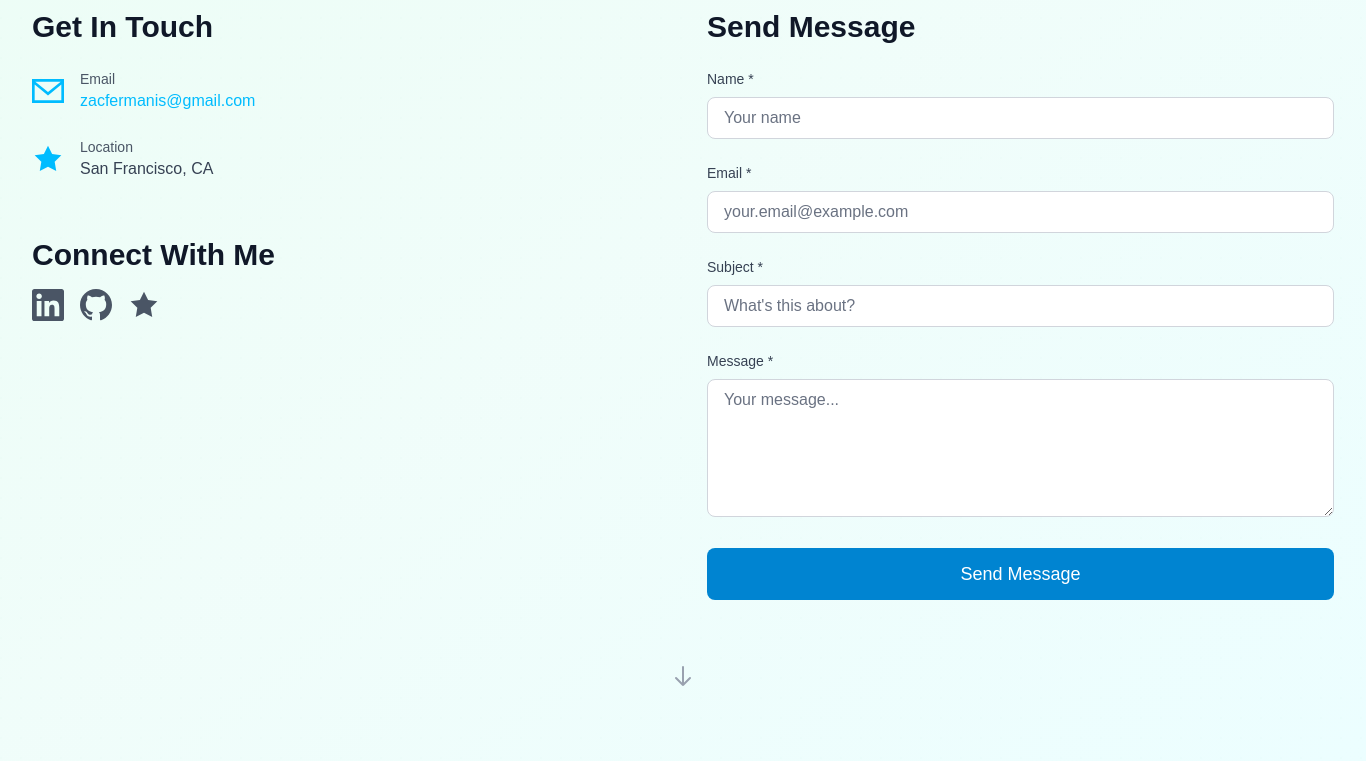
it: Contact › clears validation errors when user starts typing
This screenshot has width=1366, height=761.
(page scrolled)
Click the button "Send Message".
click(1020, 574)  # box [707,548,1334,600]
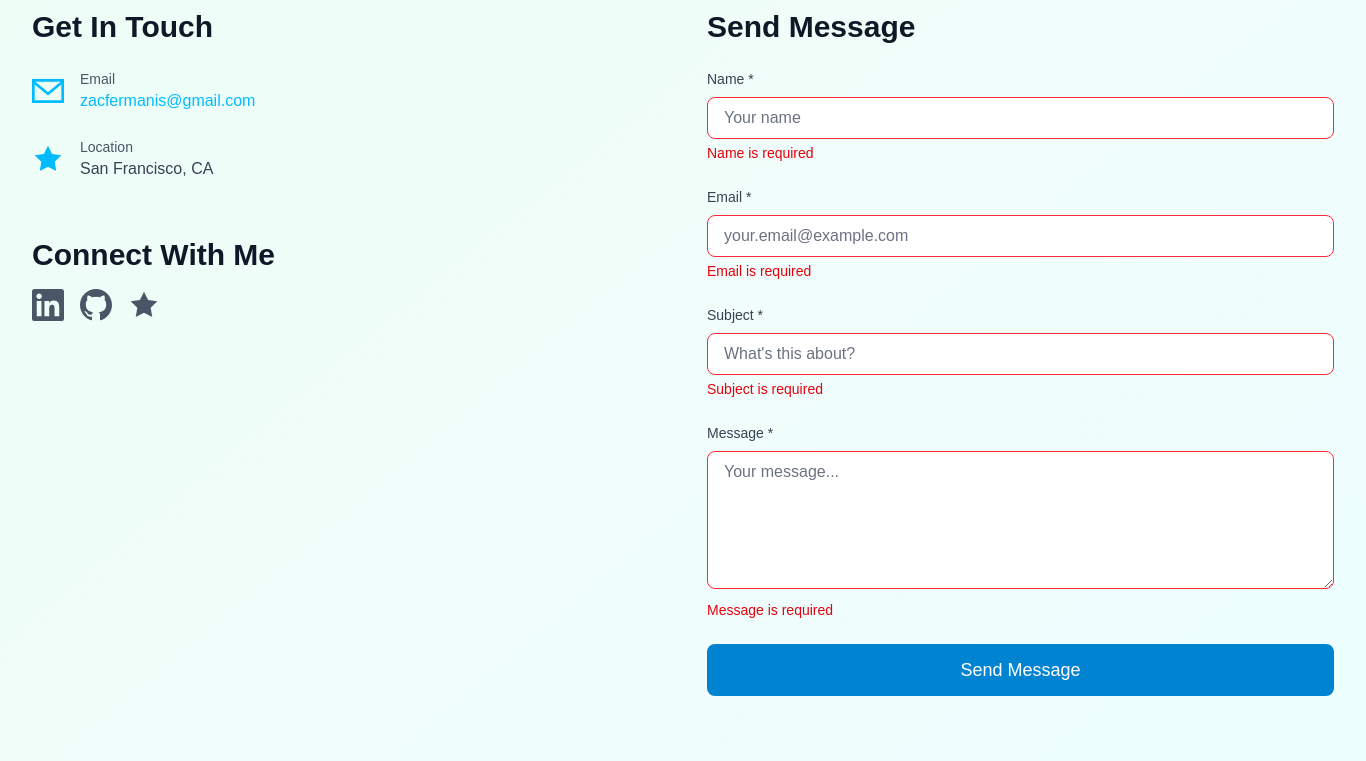
Expected: the text "Name is required" is shown, [707,145,814,161]
Type "John" into the field labelled "Name *".
click(1020, 118); type("John")  # box [707,97,1334,139]
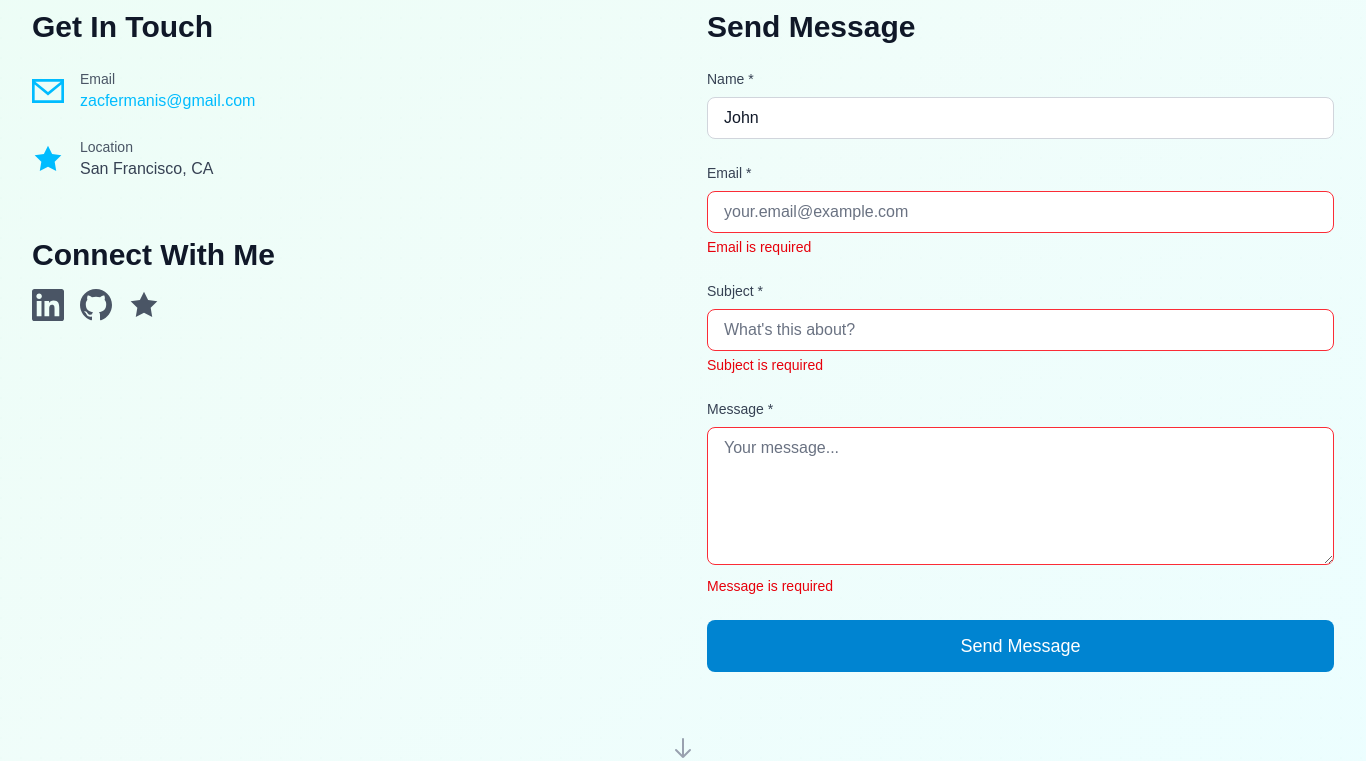
Expected: the text "Name is required" is gone
